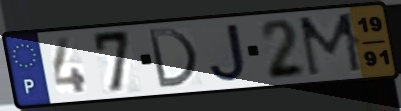2: (258, 17, 309, 81)
4: (52, 35, 90, 96)
7: (89, 29, 134, 97)
D: (145, 26, 201, 90)
J: (207, 21, 249, 85)
M: (296, 10, 367, 80)
